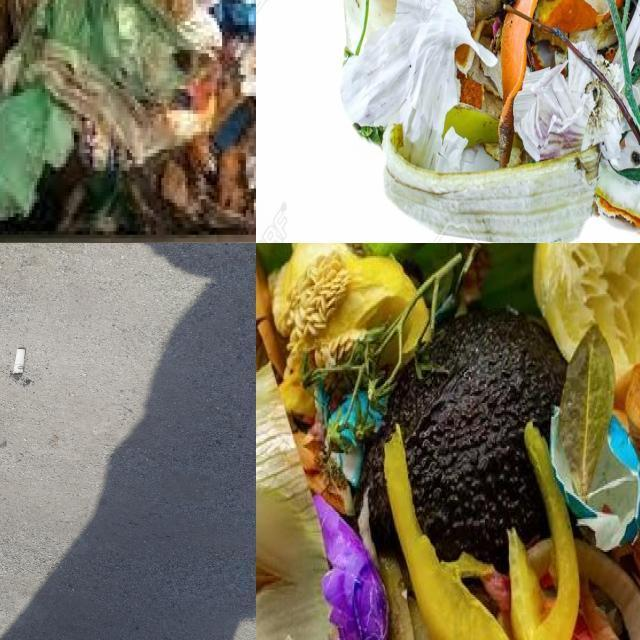Background: (0, 243, 256, 640)
Cig_bud: (13, 347, 26, 375)
Garbage: (256, 243, 640, 640), (336, 0, 640, 243)
Plastic: (313, 495, 388, 640)
contaminated_waste: (313, 495, 387, 640)
